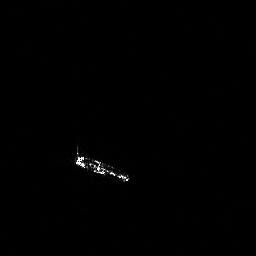ship: (70, 142, 133, 185)
